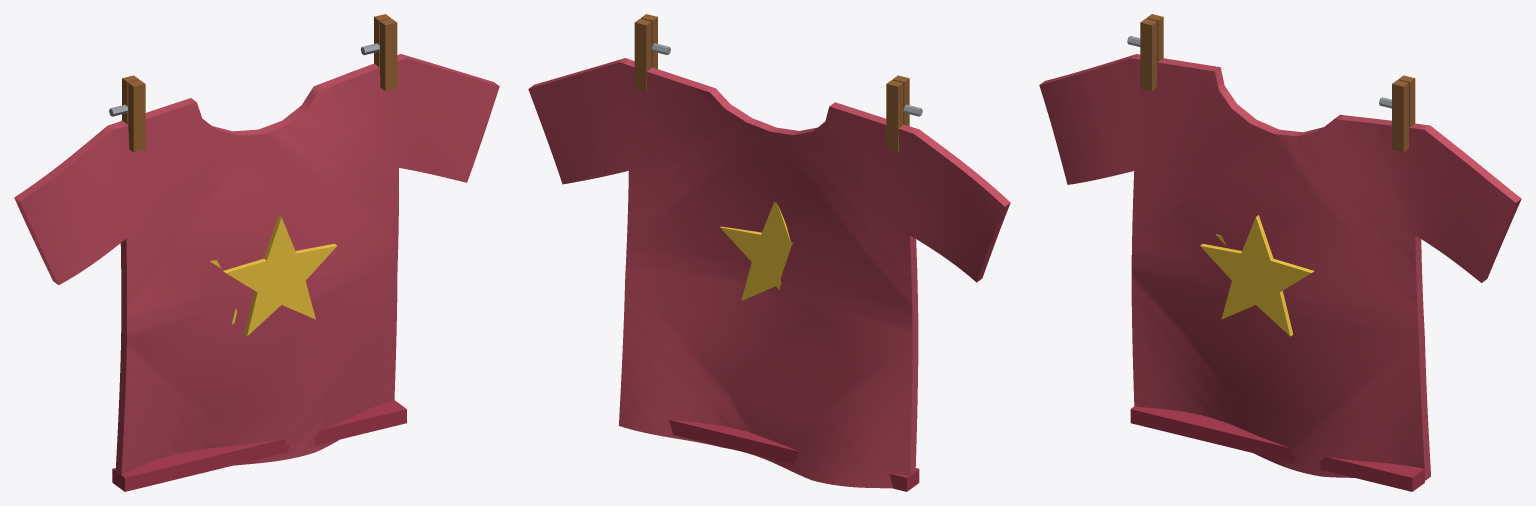
Rendered from cloth_tshirt.glb.
3 renders of one model, left to right at view 1: azimuth 30°, elevation 25°; view 2: azimuth 150°, elevation 25°; view 3: azimuth 330°, elevation 25°, orthographic.
Visible parts, largest first — view 1: pv3_cloth_tshirt; view 2: pv3_cloth_tshirt; view 3: pv3_cloth_tshirt.
Part boxes in pixels (x1,y1,x2,y2): pv3_cloth_tshirt: (14,14,499,491); pv3_cloth_tshirt: (528,14,1010,491); pv3_cloth_tshirt: (1039,14,1521,491).
Bounding box in the file's own units: 0.57 × 0.4665 × 0.0712.
